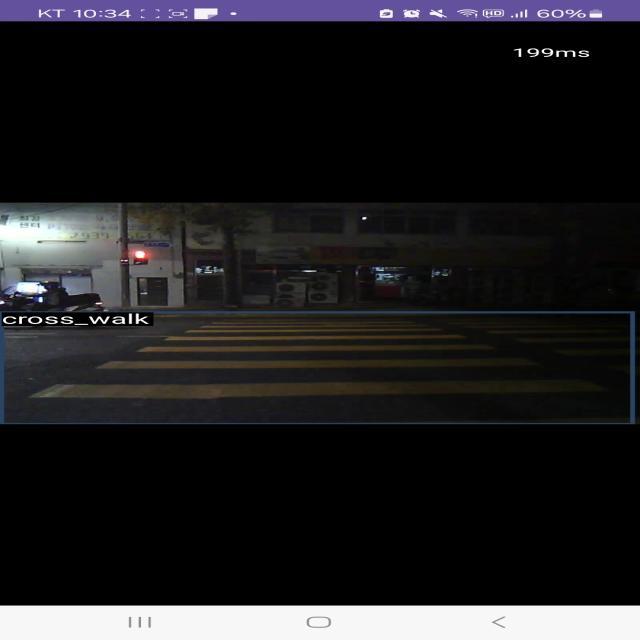crosswalk: (28, 311, 638, 404)
redlight: (130, 249, 151, 264)
